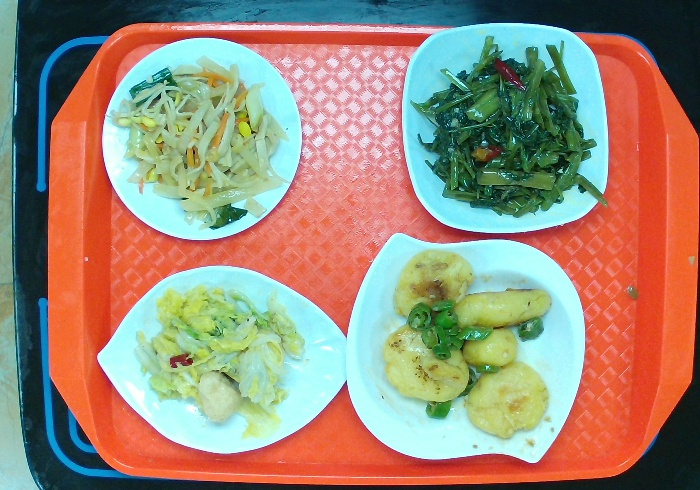RJxy-Da_Du_Pan: (92, 259, 354, 458)
RJxy-Shuang_Jiao_Pan: (344, 231, 593, 467)
RJxy-Si_Fang_Wan: (398, 20, 616, 237)
RJxy-Xiao_Yuan_Die: (98, 34, 307, 244)
